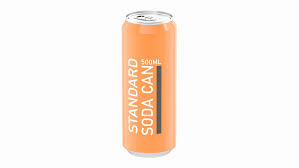can: (123, 10, 176, 157)
